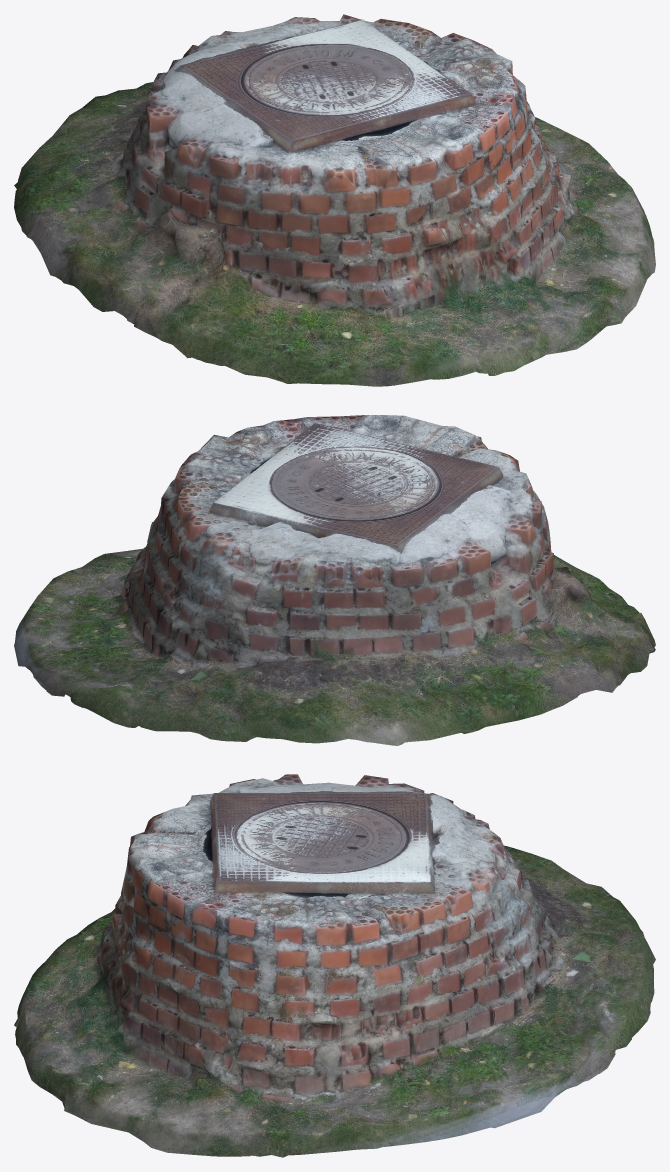
File: sewer_bricks.obj
The picture shows the model from 3 angles, top to bottom: view 1: azimuth 30°, elevation 25°; view 2: azimuth 150°, elevation 25°; view 3: azimuth 270°, elevation 25°; orthographic projection.
Parts seen in each view (by area): view 1: Sewer_with_bricks_LOW_POLY:Mesh; view 2: Sewer_with_bricks_LOW_POLY:Mesh; view 3: Sewer_with_bricks_LOW_POLY:Mesh.
Part boxes in pixels (box(x1,y1,x2,y2)): Sewer_with_bricks_LOW_POLY:Mesh: box(14, 14, 655, 386); Sewer_with_bricks_LOW_POLY:Mesh: box(14, 415, 655, 745); Sewer_with_bricks_LOW_POLY:Mesh: box(14, 774, 655, 1157).
Size of the model in its own units: 6.94 by 2.27 by 6.82.
Materials: 1 (1 with a texture image).
